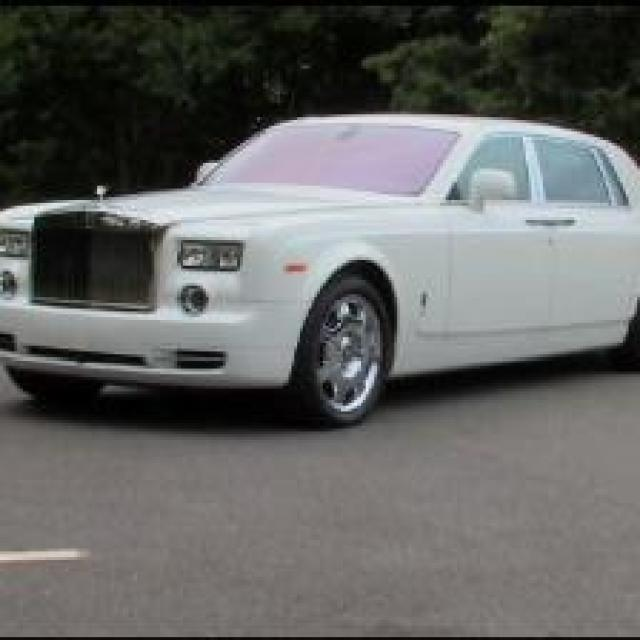damaged: (203, 240, 294, 332)
